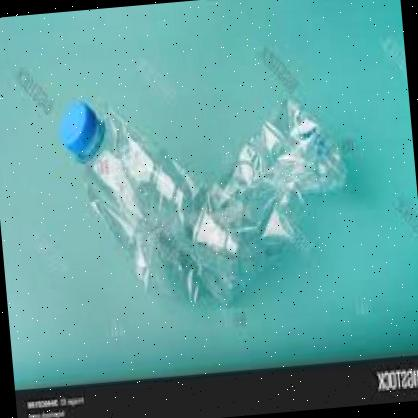bottle: (52, 64, 361, 325)
cap: (58, 98, 100, 157)
